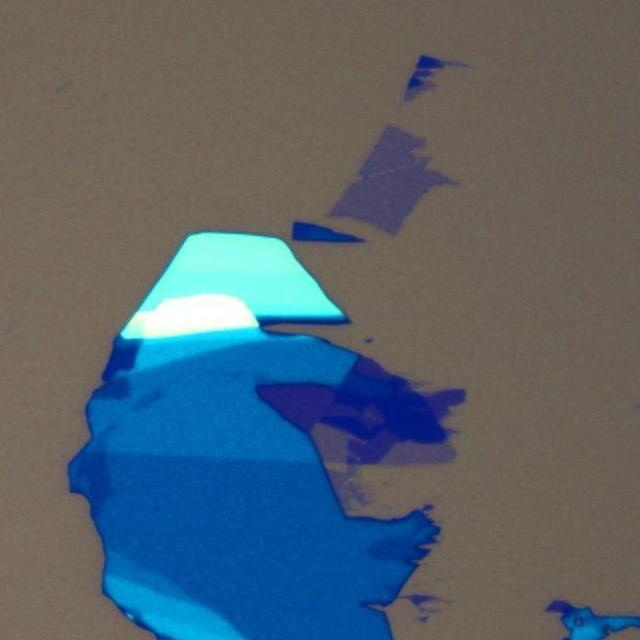monolayer-eWW4: (327, 118, 462, 235), (379, 440, 456, 464), (328, 469, 368, 512), (308, 422, 350, 462)
